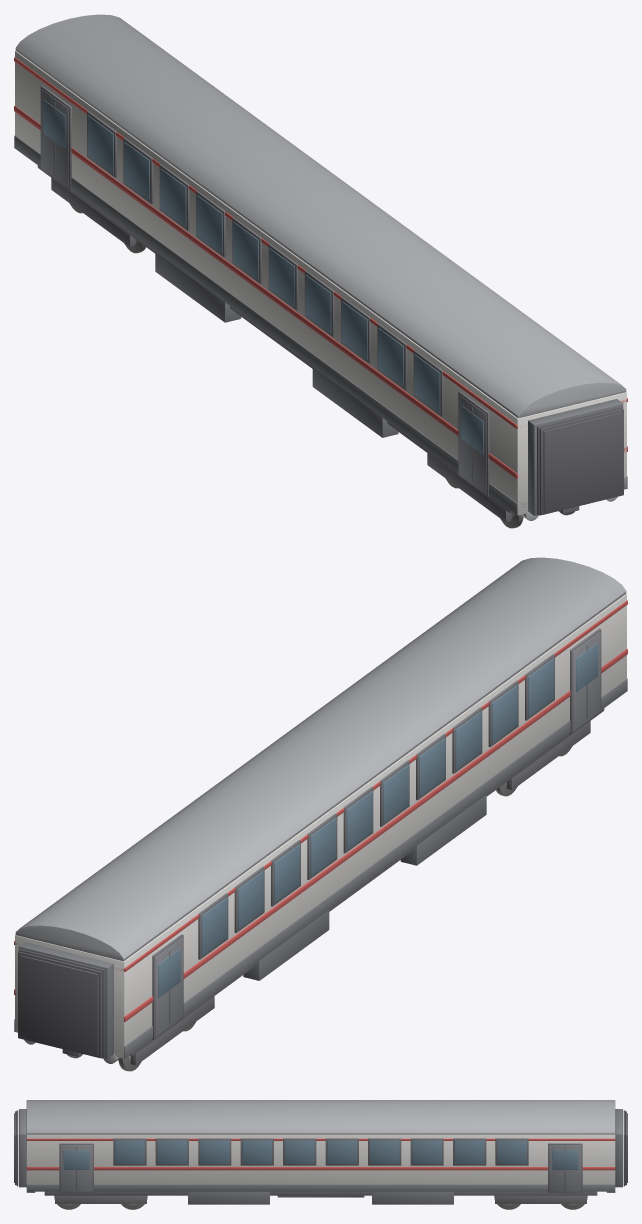
Rendered from th17_personenwagen.glb.
3 renders of one model, top to bottom at view 1: azimuth 30°, elevation 25°; view 2: azimuth 150°, elevation 25°; view 3: azimuth 270°, elevation 25°, orthographic. The views are drawn at different scales.
Parts seen in each view (by area): view 1: Cylinder.020, Cube.017, Cube.112, Cube.018, Cube.019, Cube.099, Cube.100, Cube.109, Cube.022, Cube.031, Cube.020, Cube.064 (+15 smaller); view 2: Cylinder.020, Cube.017, Cube.117, Cube.018, Cube.019, Cube.100, Cube.099, Cube.114, Cube.031, Cube.022, Cube.020, Cube.052 (+15 smaller); view 3: Cylinder.020, Cube.017, Cube.018, Cube.019, Cube.016, Cube.101, Cube.102, Cube.026, Cube.035, Cube.005, Cube.013, Cube.020 (+29 smaller).
Part boxes in pixels (<box>): Cylinder.020: <box>15,14,626,418</box>; Cube.017: <box>15,51,626,515</box>; Cube.112: <box>543,412,621,512</box>; Cube.018: <box>14,135,627,515</box>; Cube.019: <box>14,106,627,478</box>; Cube.099: <box>312,367,398,437</box>; Cube.100: <box>155,251,241,322</box>; Cube.109: <box>528,399,623,515</box>; Cube.022: <box>459,394,486,494</box>; Cube.031: <box>41,89,68,188</box>; Cube.020: <box>14,57,627,428</box>; Cube.064: <box>196,195,222,253</box>; Cylinder.020: <box>15,557,626,961</box>; Cube.017: <box>15,594,626,1058</box>; Cube.117: <box>20,955,98,1055</box>; Cube.018: <box>14,678,627,1058</box>; Cube.019: <box>14,649,627,1021</box>; Cube.100: <box>243,910,329,980</box>; Cube.099: <box>400,794,486,865</box>; Cube.114: <box>18,942,113,1058</box>; Cube.031: <box>155,937,182,1037</box>; Cube.022: <box>573,632,600,731</box>; Cube.020: <box>14,600,627,971</box>; Cube.052: <box>419,738,445,796</box>; Cylinder.020: <box>26,1100,615,1134</box>; Cube.017: <box>26,1134,615,1184</box>; Cube.018: <box>26,1184,615,1191</box>; Cube.019: <box>26,1167,615,1170</box>; Cube.016: <box>44,1191,597,1195</box>; Cube.101: <box>188,1191,269,1204</box>; Cube.102: <box>372,1191,453,1204</box>; Cube.026: <box>60,1145,92,1191</box>; Cube.035: <box>549,1145,581,1191</box>; Cube.005: <box>55,1195,146,1203</box>; Cube.013: <box>495,1195,586,1203</box>; Cube.020: <box>26,1138,615,1140</box>.
Bounding box in the file's own units: 3.05 × 4.03 × 24.
